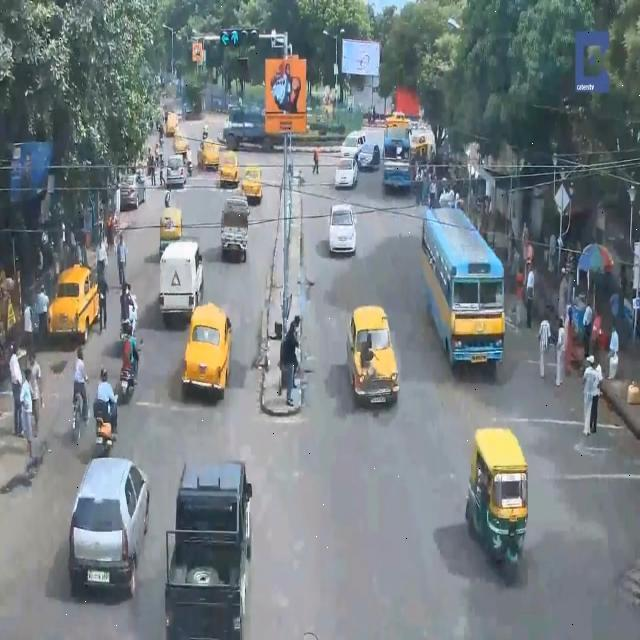accident: (343, 301, 402, 407)
